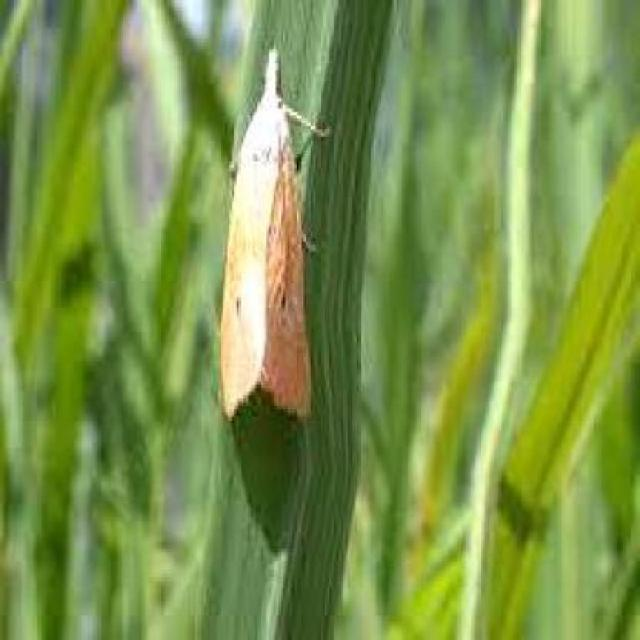stem-borer: (216, 44, 335, 424)
